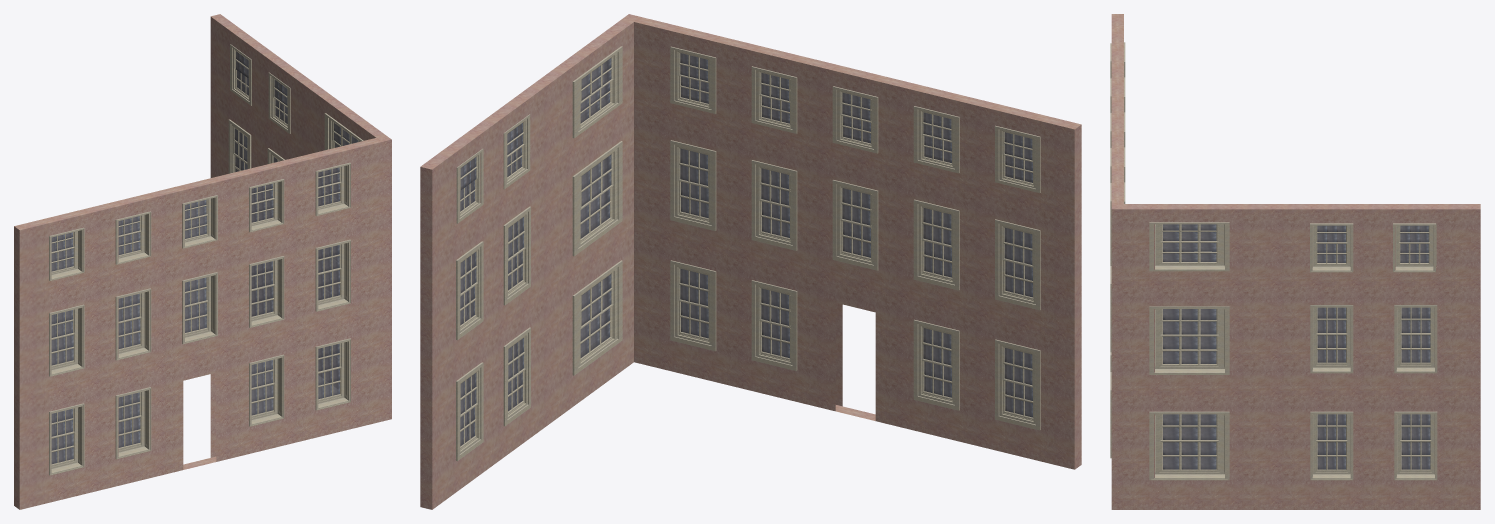
The model's file is tkaredoo.fbx.
3 renders of one model, left to right at view 1: azimuth 30°, elevation 25°; view 2: azimuth 150°, elevation 25°; view 3: azimuth 270°, elevation 25°, orthographic. The views are drawn at different scales.
Parts seen in each view (by area): view 1: Plane, Cube.000, Cube.003, Cube.002; view 2: Plane, Cube.000, Cube.003, Cube.002; view 3: Plane, Cube.003, Cube.002, Cube.000.
Part boxes in pixels (bbox=[...]): Plane: bbox=[14, 14, 391, 509]; Cube.000: bbox=[49, 239, 350, 475]; Cube.003: bbox=[49, 44, 350, 280]; Cube.002: bbox=[324, 113, 363, 150]; Plane: bbox=[420, 14, 1081, 509]; Cube.000: bbox=[670, 140, 1040, 430]; Cube.003: bbox=[456, 46, 1040, 461]; Cube.002: bbox=[572, 46, 622, 375]; Plane: bbox=[1111, 14, 1480, 509]; Cube.003: bbox=[1110, 42, 1437, 480]; Cube.002: bbox=[1149, 222, 1229, 480]; Cube.000: bbox=[1110, 249, 1111, 458].
Bounding box in the file's own units: 2312 × 1653 × 1846.
Materials: 3 (3 with a texture image).
